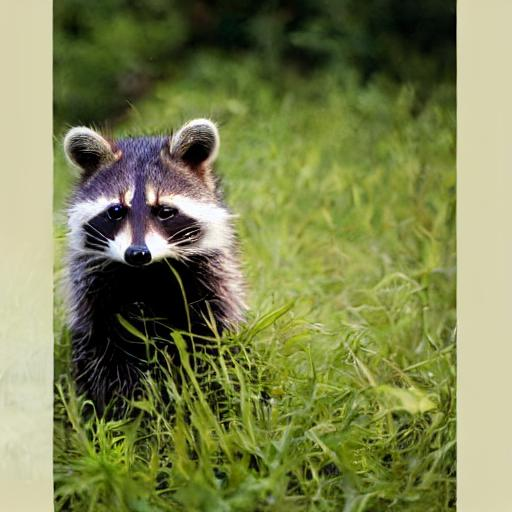raccoon: (57, 111, 257, 413)
